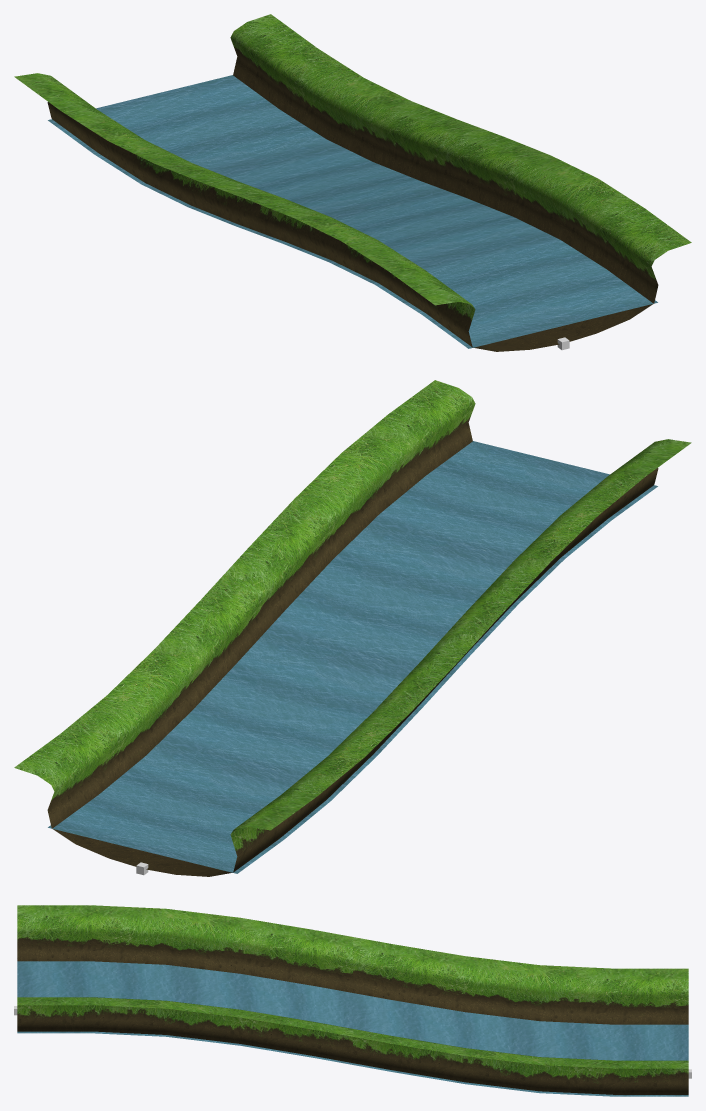
The model's file is roadSlope.down1.fbx.
3 views of the same model, one above another, from view 1: azimuth 30°, elevation 25°; view 2: azimuth 150°, elevation 25°; view 3: azimuth 270°, elevation 25° (orthographic). The views are drawn at different scales.
Visible parts, largest first — view 1: MESH roadSlope.down1; view 2: MESH roadSlope.down1; view 3: MESH roadSlope.down1.
Boxes of the visible parts, box(x1,y1,x2,y2) form: MESH roadSlope.down1: box(14, 14, 691, 351); MESH roadSlope.down1: box(14, 380, 691, 876); MESH roadSlope.down1: box(17, 905, 688, 1096).
Size of what is drawn, in the model's own units: 1691 by 963 by 4850.
